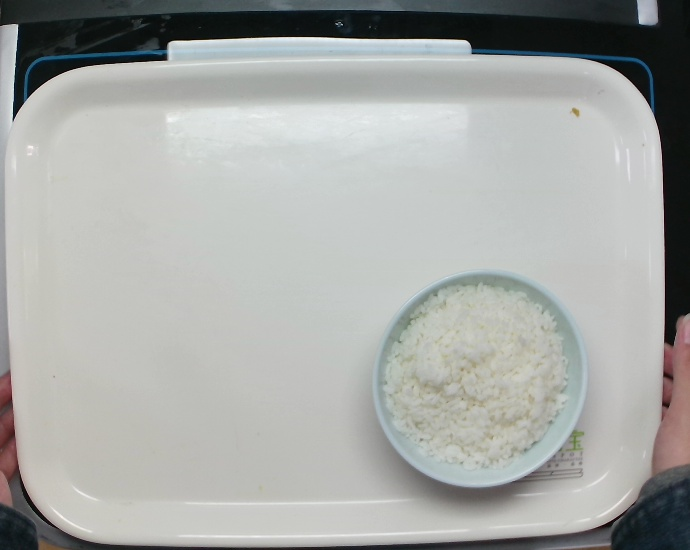JYsf-Fan_Wan: (370, 266, 590, 490)
